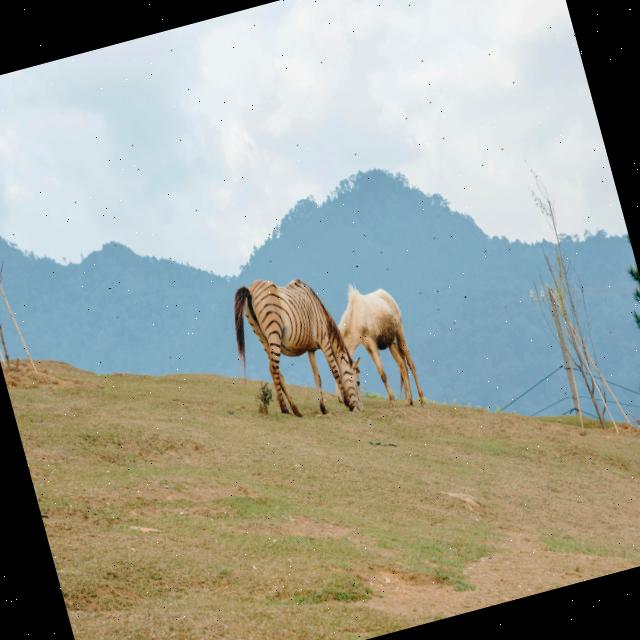Zebra: (221, 258, 374, 440)
